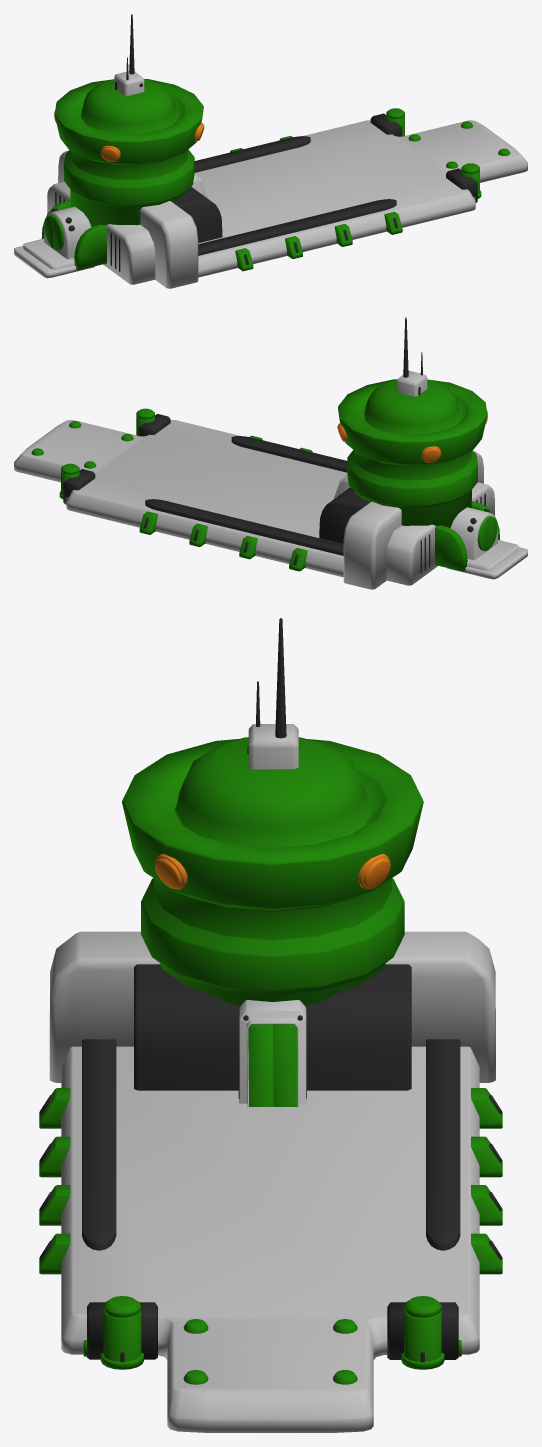
The picture shows the model from 3 angles, top to bottom: view 1: azimuth 30°, elevation 25°; view 2: azimuth 150°, elevation 25°; view 3: azimuth 270°, elevation 25°; orthographic projection. The views are drawn at different scales.
Parts seen in each view (by area): view 1: Runway strip.002; view 2: Runway strip.002; view 3: Runway strip.002.
Part boxes in pixels (left/top/right/bottom): Runway strip.002: left=14, top=14, right=527, bottom=288; Runway strip.002: left=14, top=317, right=527, bottom=589; Runway strip.002: left=39, top=618, right=502, bottom=1432.
Bounding box in the file's own units: 44.32 × 20.24 × 18.69.
